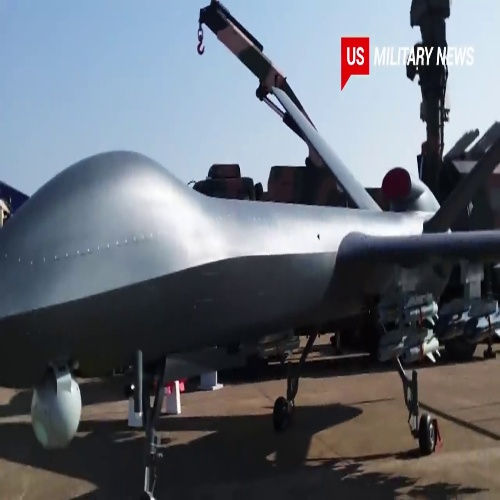uav: (1, 82, 500, 454)
